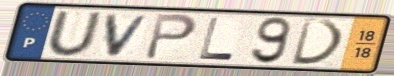9: (249, 15, 295, 66)
D: (289, 17, 347, 66)
L: (196, 16, 237, 62)
P: (142, 13, 199, 62)
U: (45, 10, 105, 58)
V: (104, 13, 154, 58)
